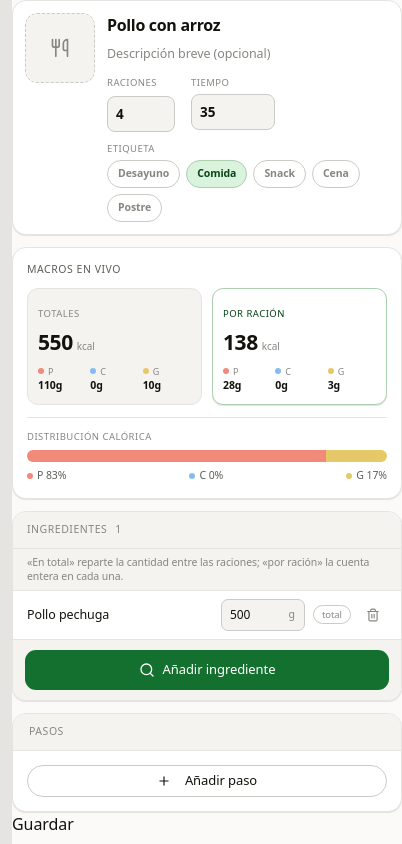
Test case: RecipeEditorForm — the type chip flips per_serving in what gets saved › moves the live macros, because per_serving changes how the row aggregates
This screenshot has width=402, height=844.
Expected: the text "550" is shown, [38,327,73,358]
Click the button with aria-label "en total". click: (332, 615)
box: [313,605,351,624]
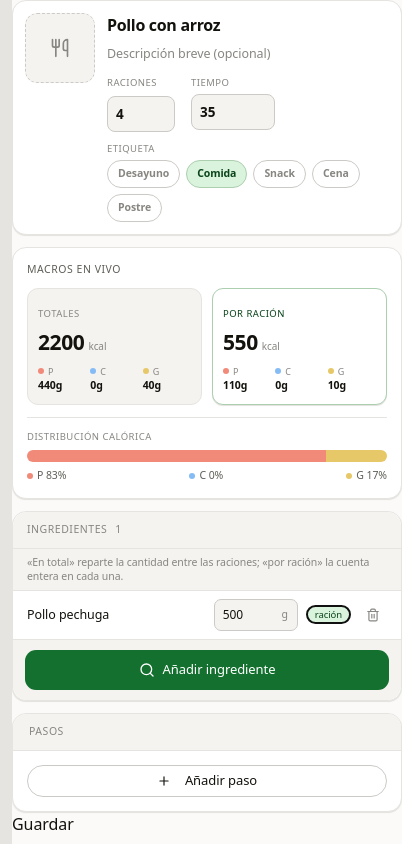
Result: the text "2200" is shown at [38,327,84,358]
